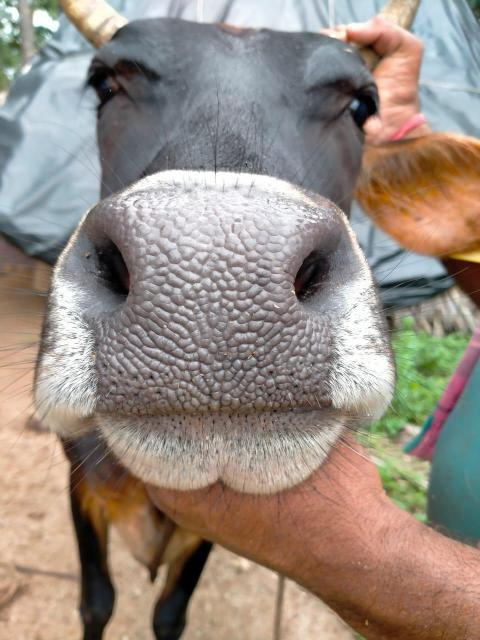Muzzle: (94, 196, 342, 410)
